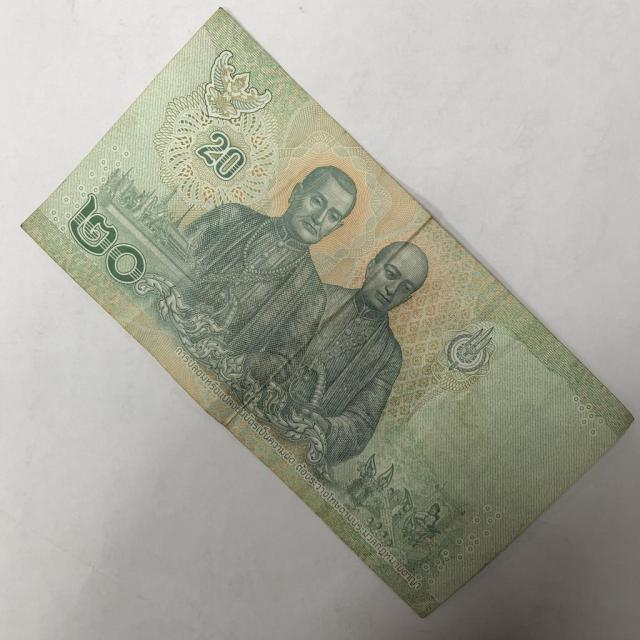THAI20: (21, 9, 633, 620)
